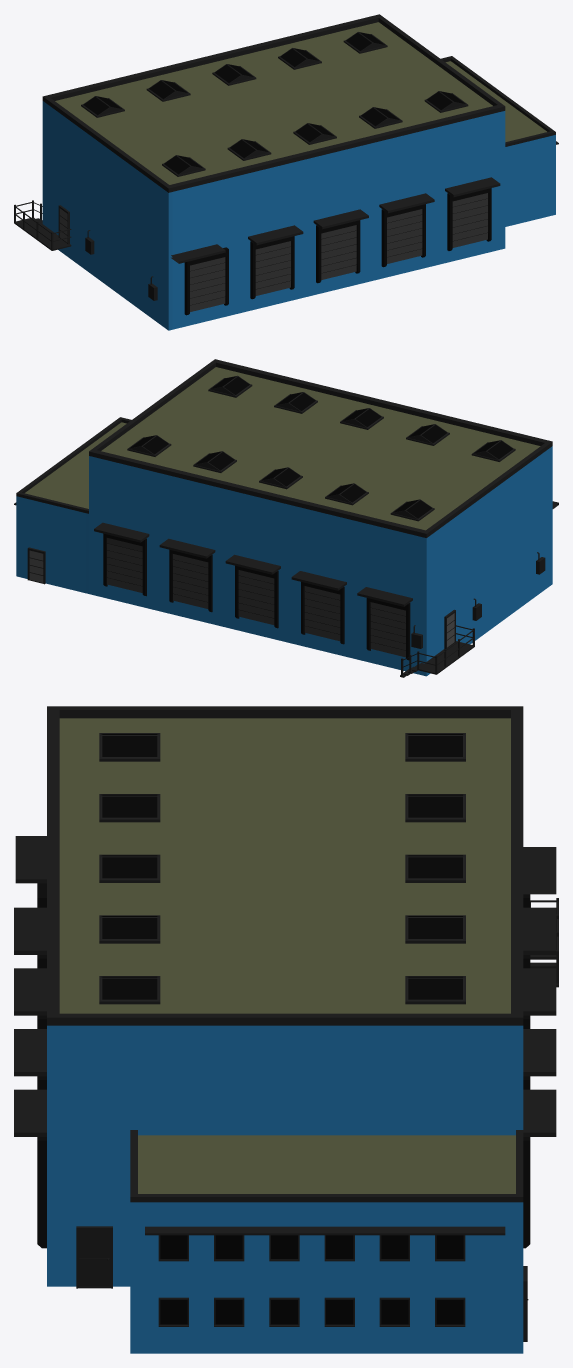
Rendered from SM_warehouse_02V3.FBX.
The picture shows the model from 3 angles, top to bottom: view 1: azimuth 30°, elevation 25°; view 2: azimuth 150°, elevation 25°; view 3: azimuth 270°, elevation 25°; orthographic projection. The views are drawn at different scales.
Visible parts, largest first — view 1: Warehouse_02M3; view 2: Warehouse_02M3; view 3: Warehouse_02M3.
Boxes of the visible parts, box(x1,y1,x2,y2) form: Warehouse_02M3: box(14, 14, 558, 330); Warehouse_02M3: box(14, 359, 558, 677); Warehouse_02M3: box(14, 706, 558, 1353).
Size of the model in its own units: 3135 by 998 by 1793.
